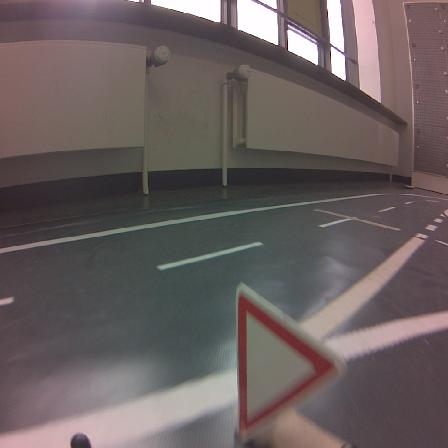GIVE_WAY: (237, 284, 344, 441)
